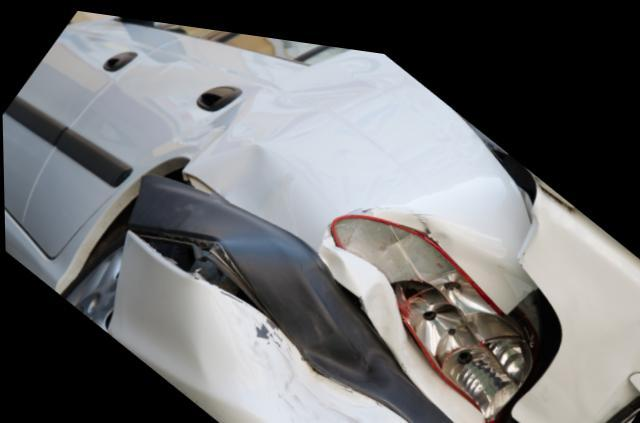dent: (186, 231, 389, 423), (319, 225, 432, 358), (187, 137, 321, 234)
lamp broken: (327, 205, 531, 405)
